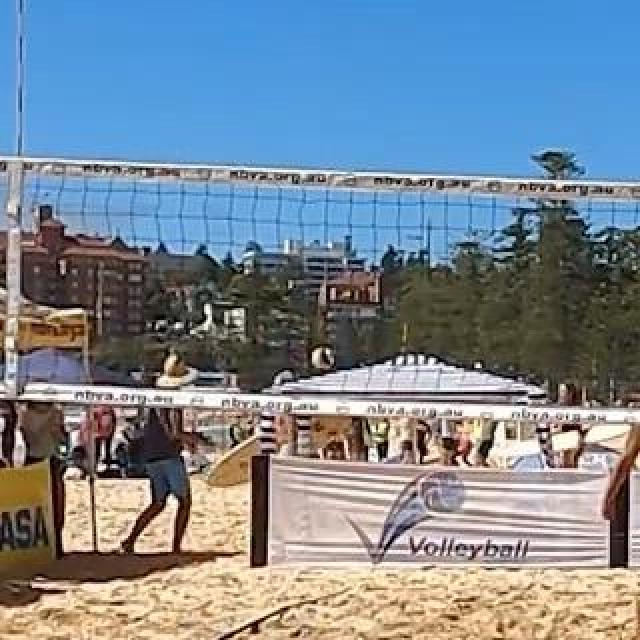volleyball: (312, 346, 334, 370)
